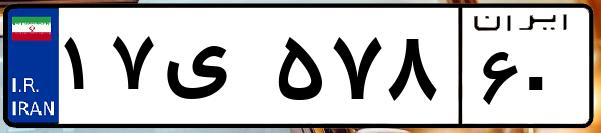0: (525, 38, 570, 115)
1: (57, 26, 110, 100)
5: (270, 28, 330, 110)
6: (475, 38, 525, 113)
7: (330, 28, 385, 110), (110, 28, 158, 98)
8: (385, 28, 445, 110)
ی: (158, 20, 270, 120)
